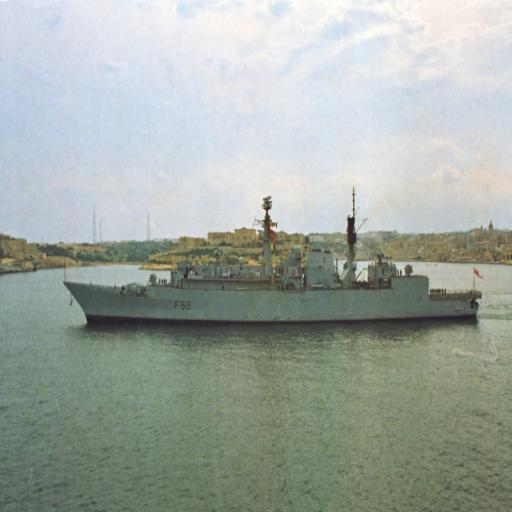Fragata: (65, 183, 486, 332)
